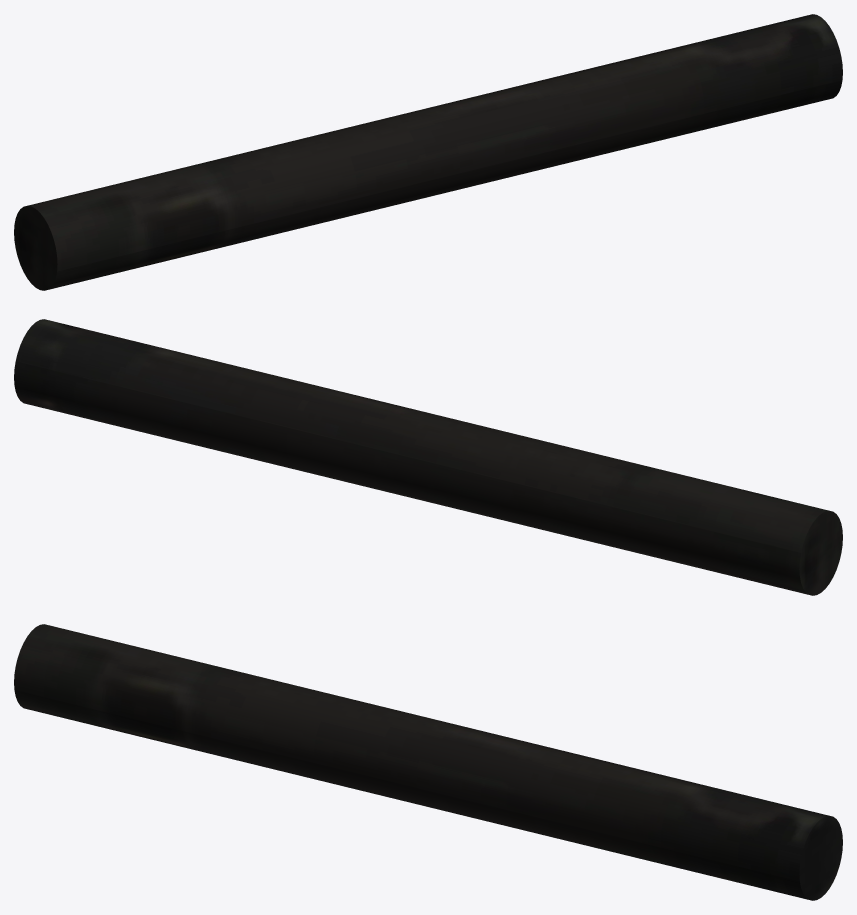
Rendered from center_frame__front_axle_arm_0.glb.
3 views of the same model, one above another, from view 1: azimuth 30°, elevation 25°; view 2: azimuth 150°, elevation 25°; view 3: azimuth 330°, elevation 25° (orthographic).
Visible parts, largest first — view 1: world; view 2: world; view 3: world.
Part boxes in pixels (x1,y1,x2,y2): world: (14,14,842,290); world: (14,319,842,595); world: (14,624,842,900).
Size of the model in its own units: 0.25 by 0.024 by 0.024.
1 material, 1 textured.
